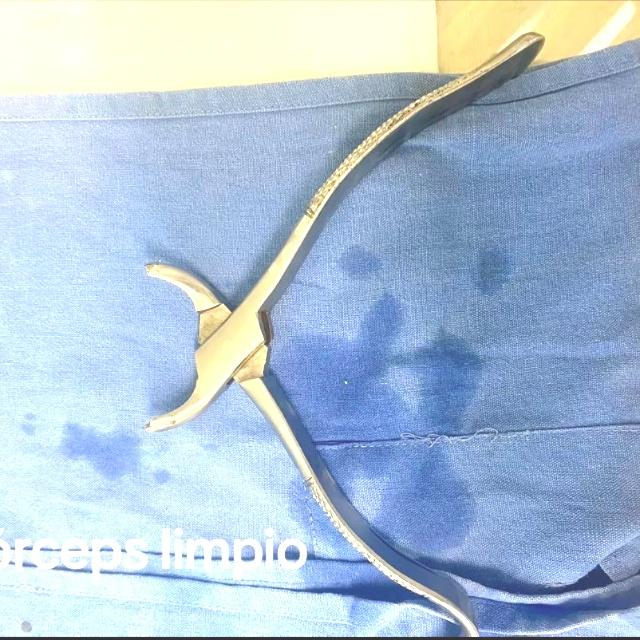forceps: (145, 32, 546, 639)
